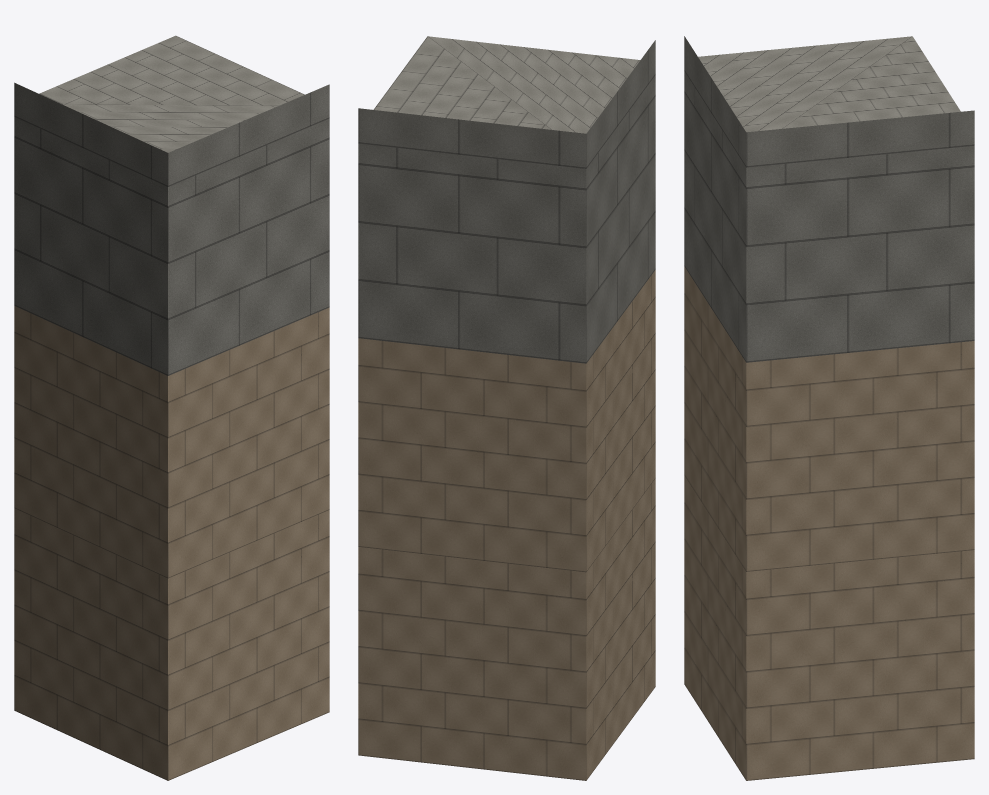
Rendered from bld_c-3_3_534.gltf.
The picture shows the model from 3 angles, left to right: view 1: azimuth 30°, elevation 25°; view 2: azimuth 150°, elevation 25°; view 3: azimuth 270°, elevation 25°; orthographic projection. The views are drawn at different scales.
Visible parts, largest first — view 1: bld_c-3_3_534; view 2: bld_c-3_3_534; view 3: bld_c-3_3_534.
Part boxes in pixels (x1,y1,x2,y2): bld_c-3_3_534: [14, 35, 329, 780]; bld_c-3_3_534: [358, 36, 655, 780]; bld_c-3_3_534: [684, 36, 974, 780].
Size of the model in its own units: 2.73 by 6.98 by 2.83.
Materials: 4 (4 with a texture image).
